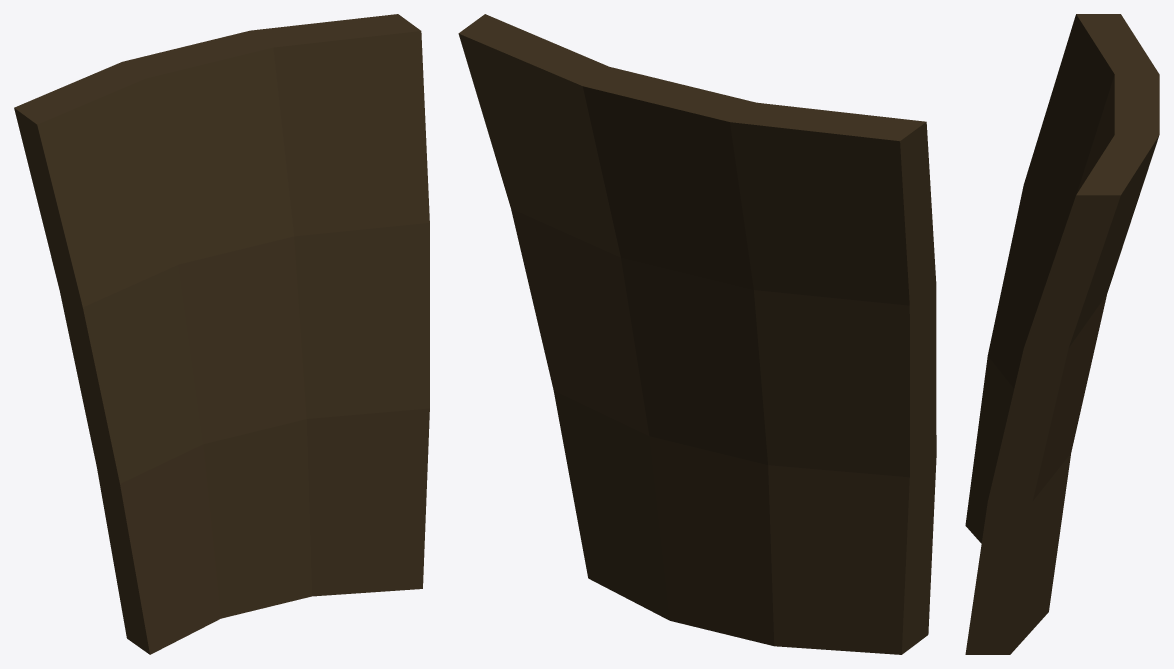
Rendered from Itr_Chair2_Back_02.FBX.
The picture shows the model from 3 angles, left to right: view 1: azimuth 30°, elevation 25°; view 2: azimuth 150°, elevation 25°; view 3: azimuth 270°, elevation 25°; orthographic projection. The views are drawn at different scales.
Parts seen in each view (by area): view 1: Itr_Chair2_Back_02; view 2: Itr_Chair2_Back_02; view 3: Itr_Chair2_Back_02.
Part boxes in pixels (x1,y1,x2,y2): Itr_Chair2_Back_02: (14, 14, 429, 654); Itr_Chair2_Back_02: (458, 14, 936, 654); Itr_Chair2_Back_02: (965, 14, 1159, 654).
Bounding box in the file's own units: 15.44 × 19.29 × 6.99.
